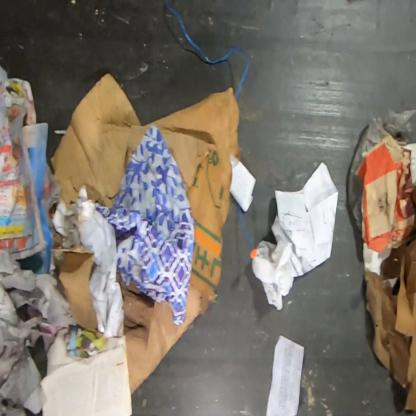cardboard: (51, 69, 240, 397), (364, 207, 415, 412), (355, 135, 414, 253), (50, 244, 98, 333)
soft_plastic: (346, 108, 415, 231)
